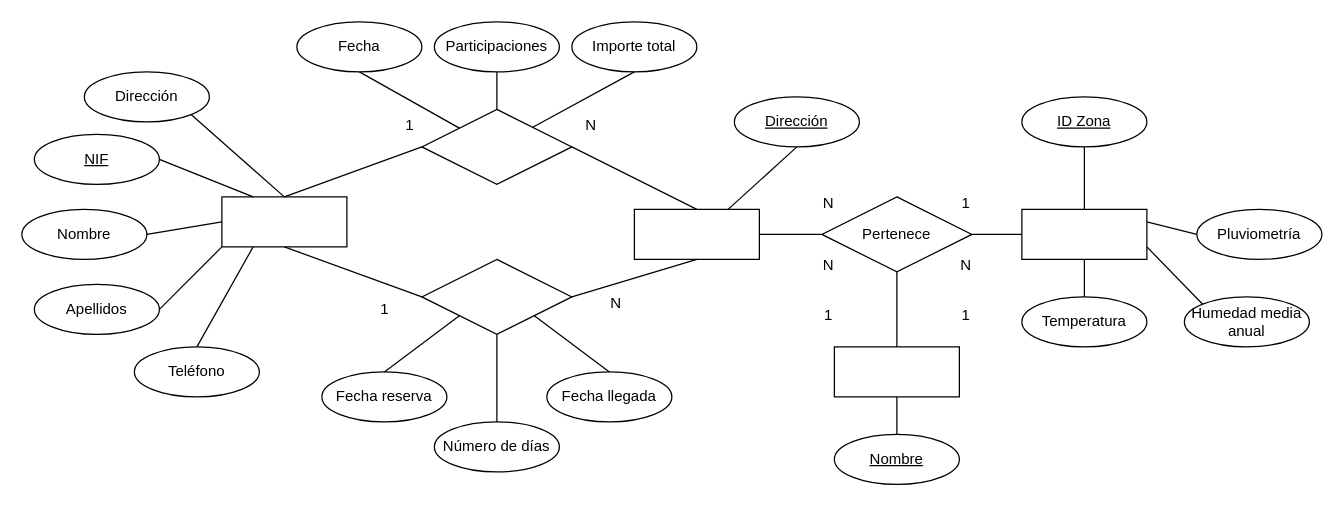
Some shapes in this 1344 by 506 pixel diagram are drawn without their labels. The shapes that lost their labels are listed below. From the top down, each one's centre as x and y in pixels, then its label:
At point (496, 146): "Compra".
At point (284, 221): "Propietario".
At point (696, 233): "Apartamento".
At point (1084, 233): "Zona".
At point (496, 296): "Reserva".
At point (896, 371): "Temporada".
